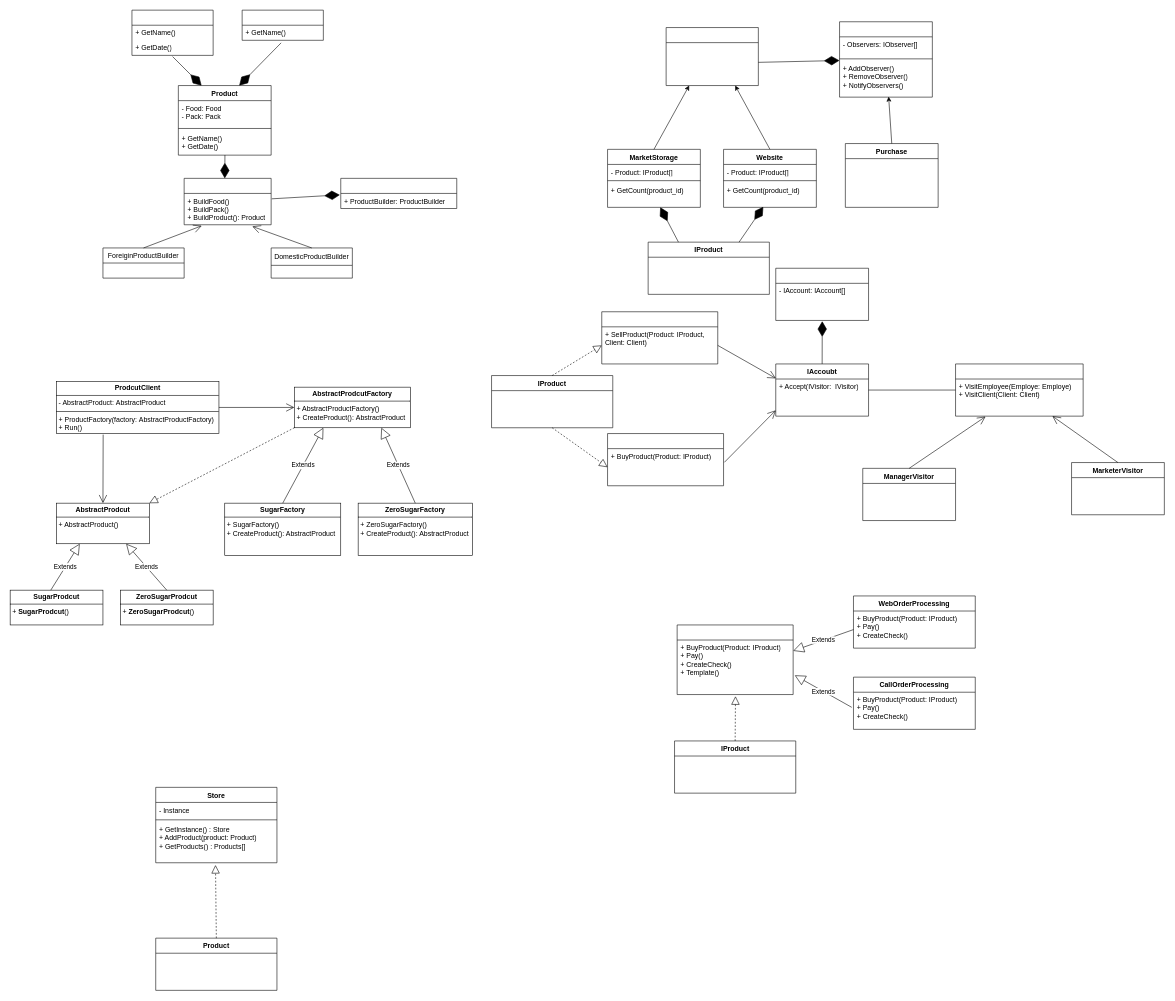
The diagram is 1175 pixels wide and 1001 high, and some of its shapes have lost their labels. Here are the shapes that lost their labels. From the top down, the box of each, then its label:
(131, 10, 213, 55): Food
(242, 10, 323, 40): Pack
(666, 27, 758, 86): IObserver
(839, 21, 932, 97): IObservable
(184, 178, 271, 225): ProductBuilder
(340, 178, 457, 209): Market
(775, 268, 869, 320): MarketIssuance
(601, 311, 718, 364): Employee
(955, 363, 1083, 416): IVisitor
(607, 433, 724, 486): Client
(677, 624, 793, 695): OrderProcessing
